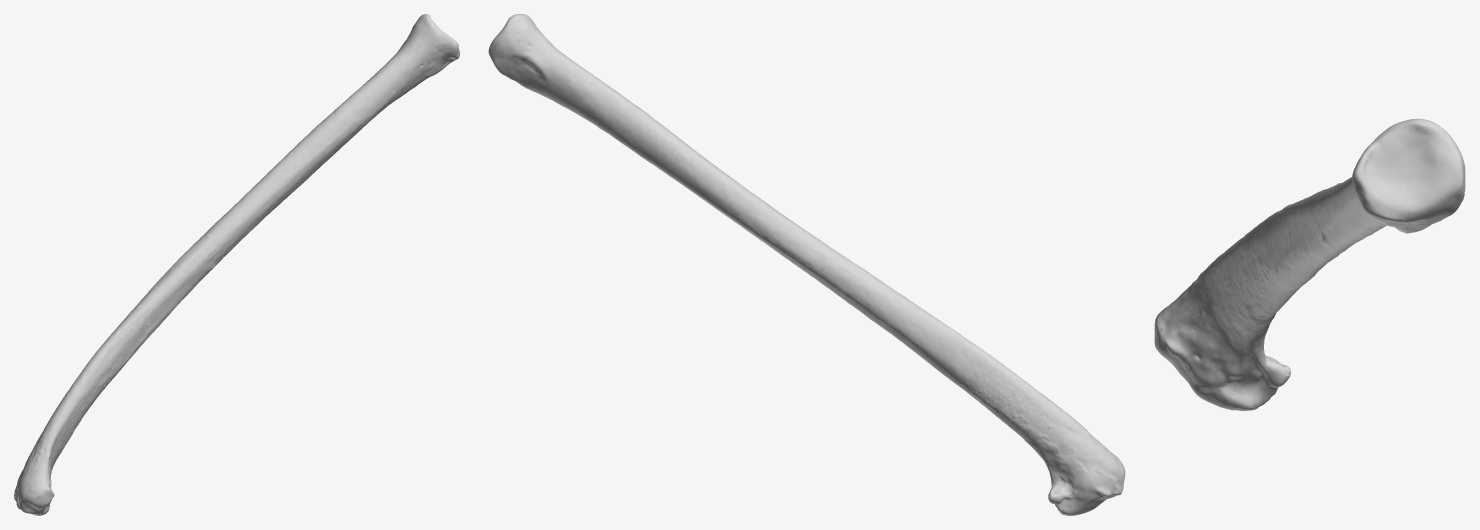
The picture shows the model from 3 angles, left to right: view 1: azimuth 30°, elevation 25°; view 2: azimuth 150°, elevation 25°; view 3: azimuth 270°, elevation 25°; orthographic projection. The views are drawn at different scales.
Visible parts, largest first — view 1: Radius_li_Huhn.001; view 2: Radius_li_Huhn.001; view 3: Radius_li_Huhn.001.
Boxes of the visible parts, box(x1,y1,x2,y2) form: Radius_li_Huhn.001: box(14, 14, 459, 515); Radius_li_Huhn.001: box(488, 14, 1125, 515); Radius_li_Huhn.001: box(1154, 118, 1465, 410).
Bounding box in the file's own units: 5901 × 4130 × 1633.
Materials: 1 (1 with a texture image).
